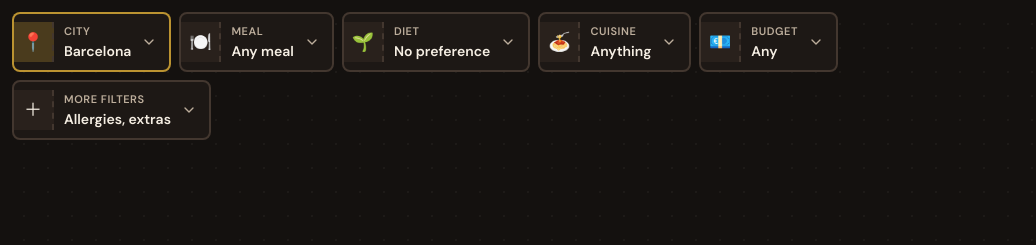
PreferenceChips › opens one panel at a time with correct aria-expanded and aria-controls
The image size is (1036, 245).
Click the button "🌱 Diet No preference" at (436, 42), box 342,12 -> 530,72
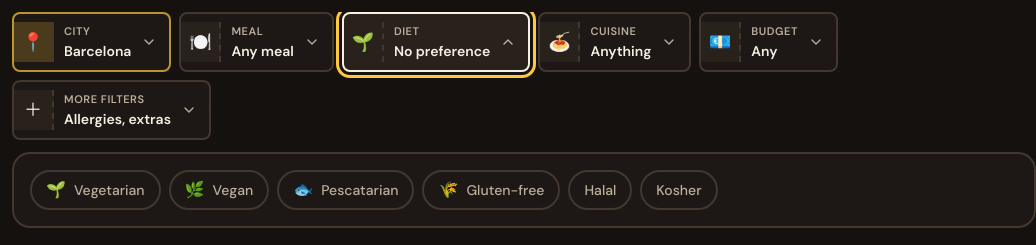
Check: the button "🌱 Diet No preference" is expanded, box 342,12 -> 530,72
Click the button "🍽️ Meal Any meal" at (257, 42), box 179,12 -> 334,72
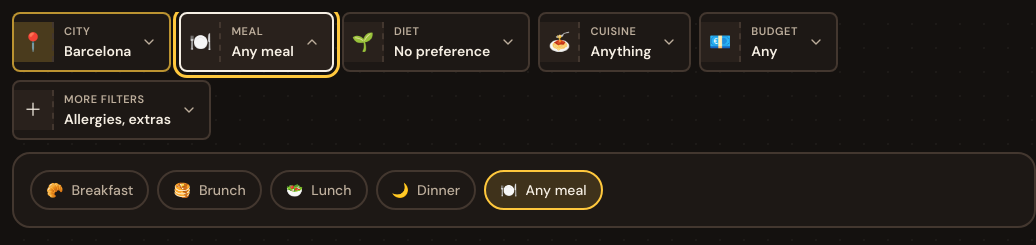
Check: the button "🌱 Diet No preference" is collapsed, box 342,12 -> 530,72
Check: the button "🍽️ Meal Any meal" is expanded, box 179,12 -> 334,72
